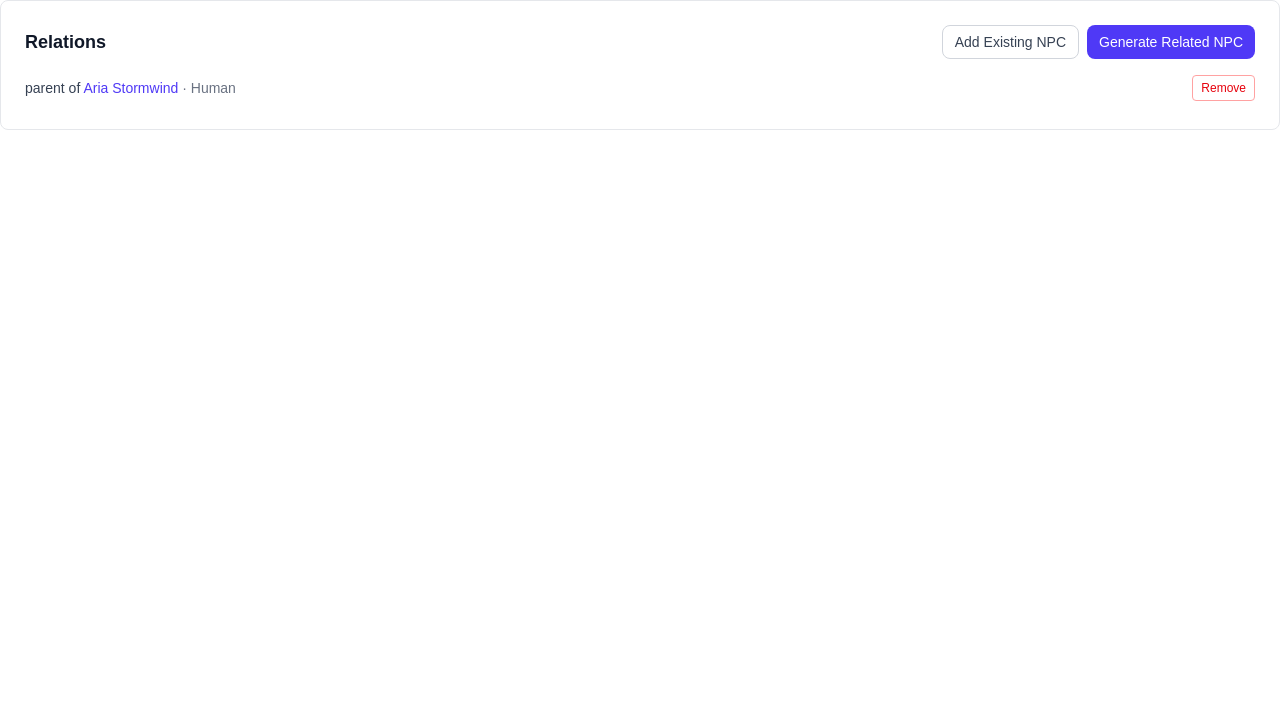
NpcRelationsPanel › skips delete when the confirmation dialog is cancelled
Click the button with aria-label "remove relation" at [1224, 88], box top-left (1192, 75), bottom-right (1255, 101)
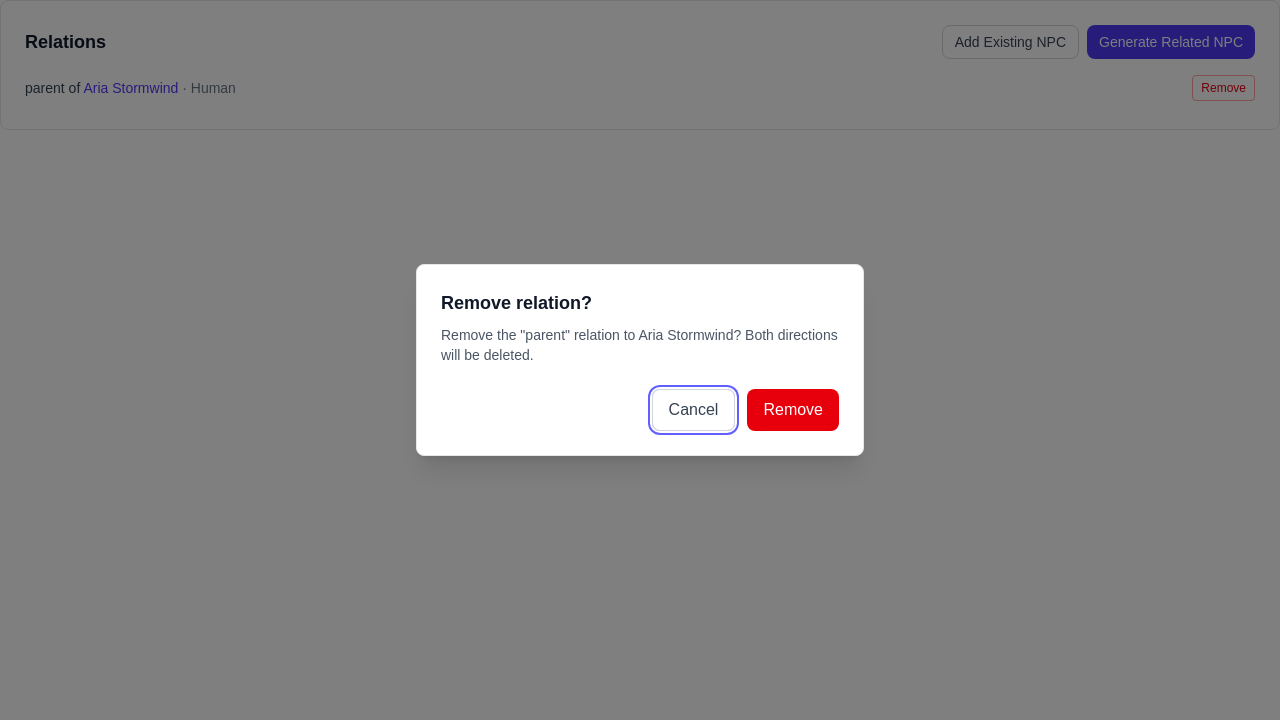
Click the button "Cancel" at [694, 410], box top-left (652, 389), bottom-right (735, 431)
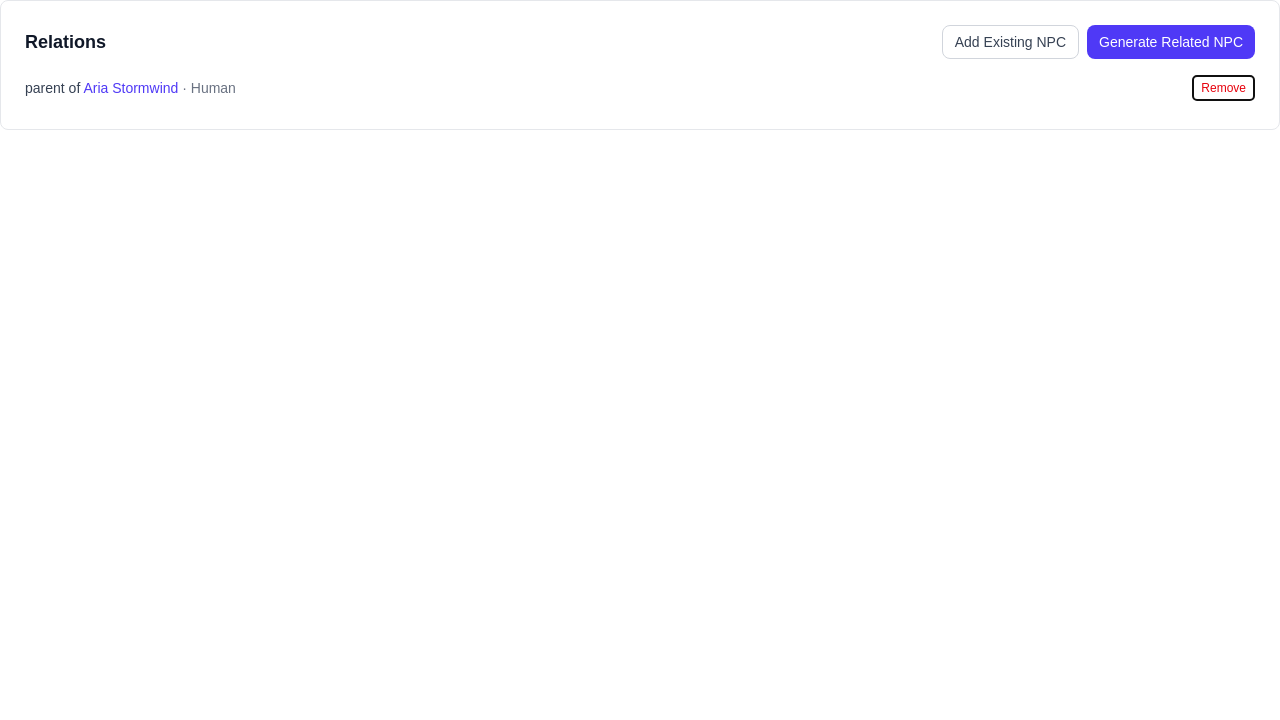
Result: the dialog is gone
